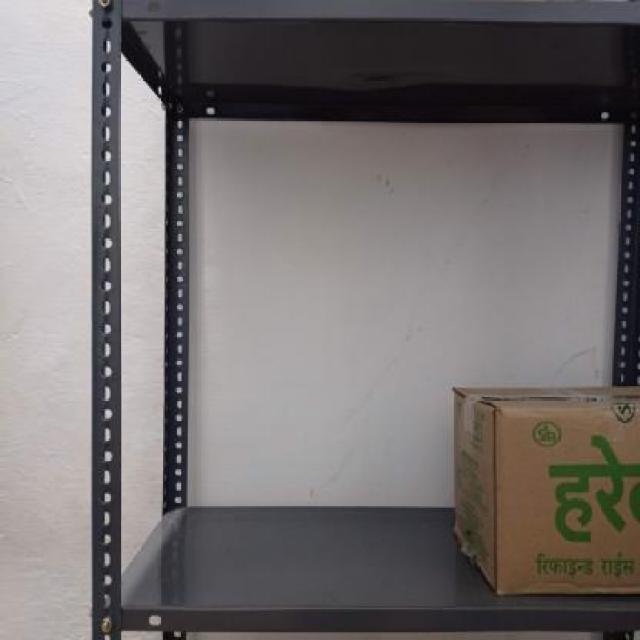box: (495, 406, 640, 591)
